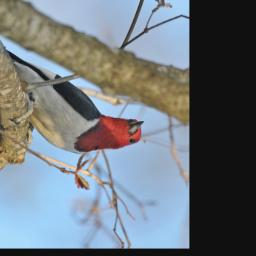Woodpecker: (0, 37, 153, 161)
